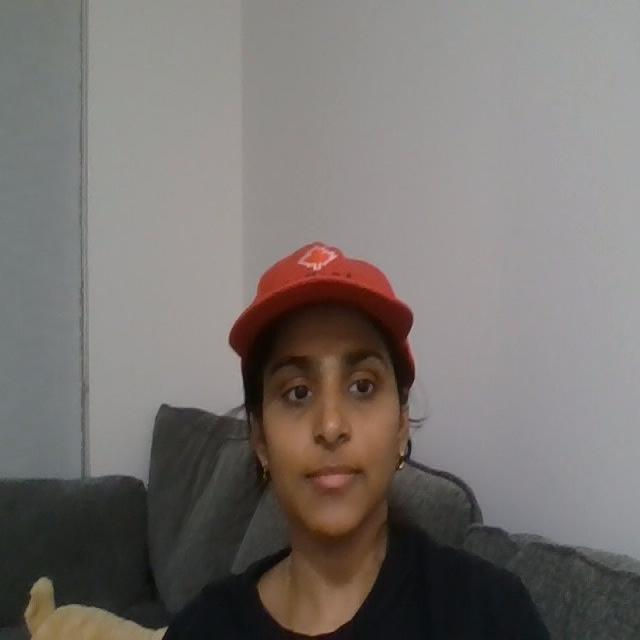Hat: (213, 223, 434, 345)
